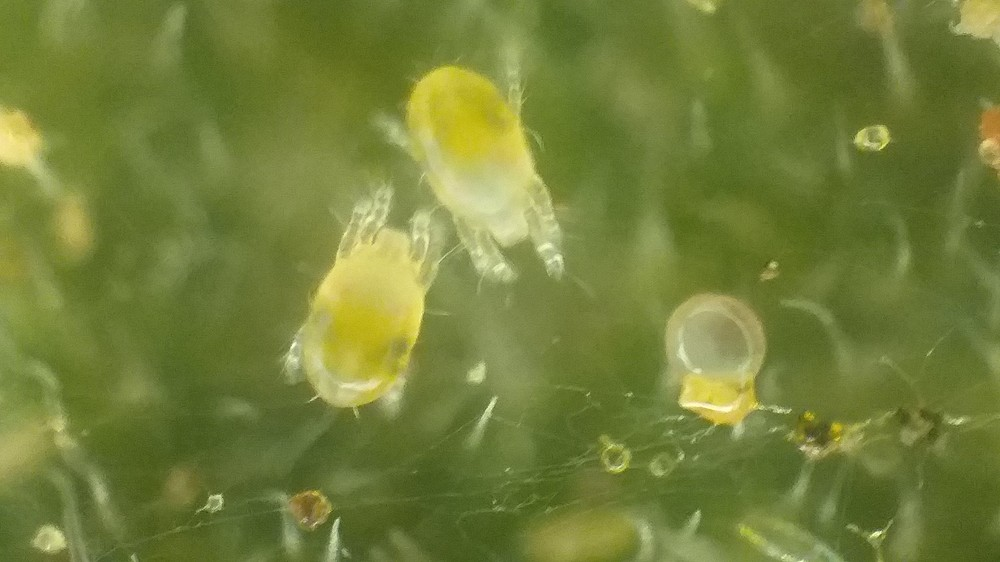Aracnido Rojo: (392, 61, 599, 300), (271, 176, 452, 419)
